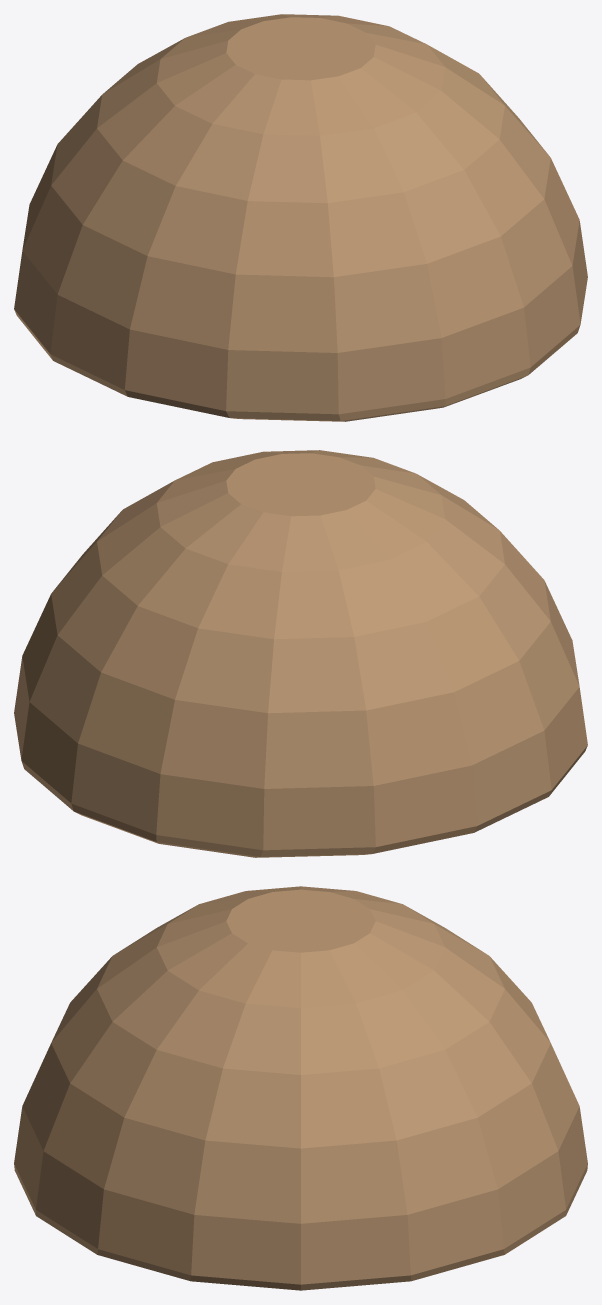
The model's file is bread_cuttop.fbx.
3 views of the same model, one above another, from view 1: azimuth 30°, elevation 25°; view 2: azimuth 150°, elevation 25°; view 3: azimuth 270°, elevation 25° (orthographic).
Visible parts, largest first — view 1: bread_cuttop; view 2: bread_cuttop; view 3: bread_cuttop.
Boxes of the visible parts, box(x1,y1,x2,y2) form: bread_cuttop: box(14, 14, 587, 421); bread_cuttop: box(14, 450, 587, 857); bread_cuttop: box(14, 886, 587, 1290).
Bounding box in the file's own units: 199 × 96.59 × 199.
